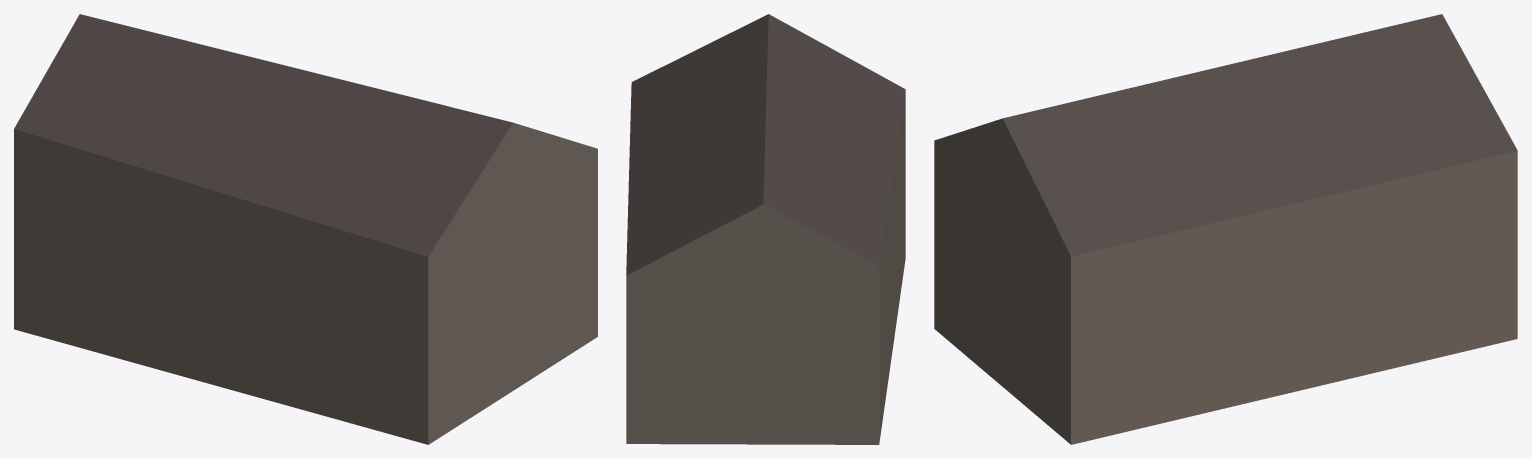
3 views of the same model, side by side, from view 1: azimuth 30°, elevation 25°; view 2: azimuth 150°, elevation 25°; view 3: azimuth 270°, elevation 25° (orthographic). The views are drawn at different scales.
Visible parts, largest first — view 1: HP-w1512359760; view 2: HP-w1512359760; view 3: HP-w1512359760.
Boxes of the visible parts, left/top/right/bottom form: HP-w1512359760: left=14, top=14, right=597, bottom=444; HP-w1512359760: left=626, top=14, right=905, bottom=444; HP-w1512359760: left=934, top=14, right=1517, bottom=444.
Bounding box in the file's own units: 14.37 × 8.56 × 16.86.
